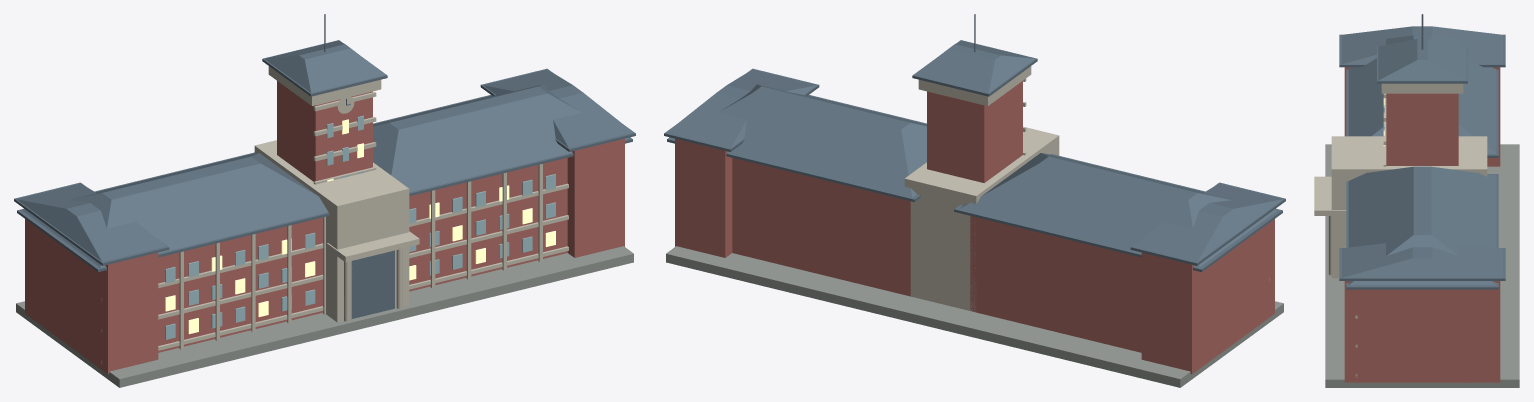
The model's file is office.glb.
3 views of the same model, side by side, from view 1: azimuth 30°, elevation 25°; view 2: azimuth 150°, elevation 25°; view 3: azimuth 270°, elevation 25° (orthographic). The views are drawn at different scales.
Visible parts, largest first — view 1: office; view 2: office; view 3: office.
Part boxes in pixels (box(x1,y1,x2,y2)): office: box(14, 14, 635, 387); office: box(664, 14, 1285, 387); office: box(1314, 14, 1519, 387).
Size of the model in its own units: 44.7 by 21.8 by 15.85.
